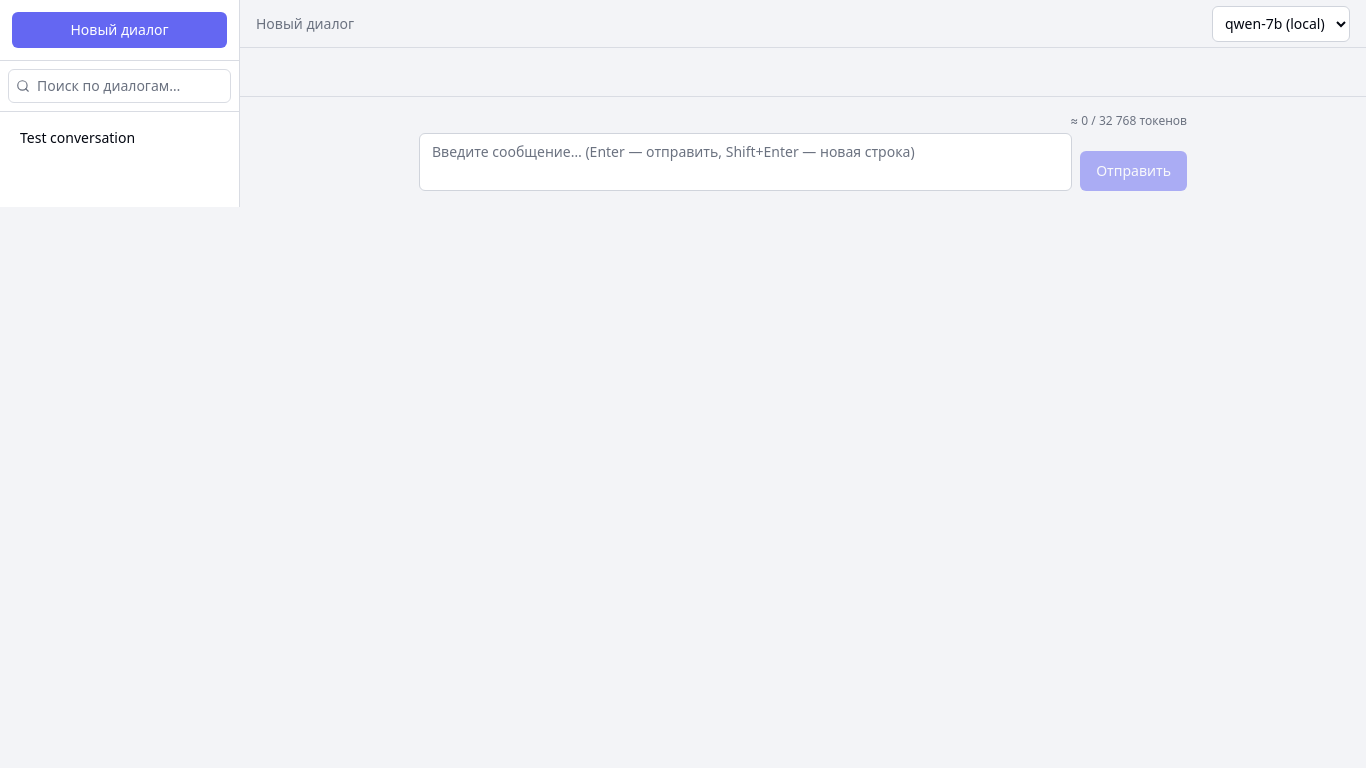
it: ChatPage › new conversation button opens modal with required model selection
# Кнопка в панели диалогов — первая в DOM
Click the button "Новый диалог". click: (120, 30)
box: [12,12,227,48]
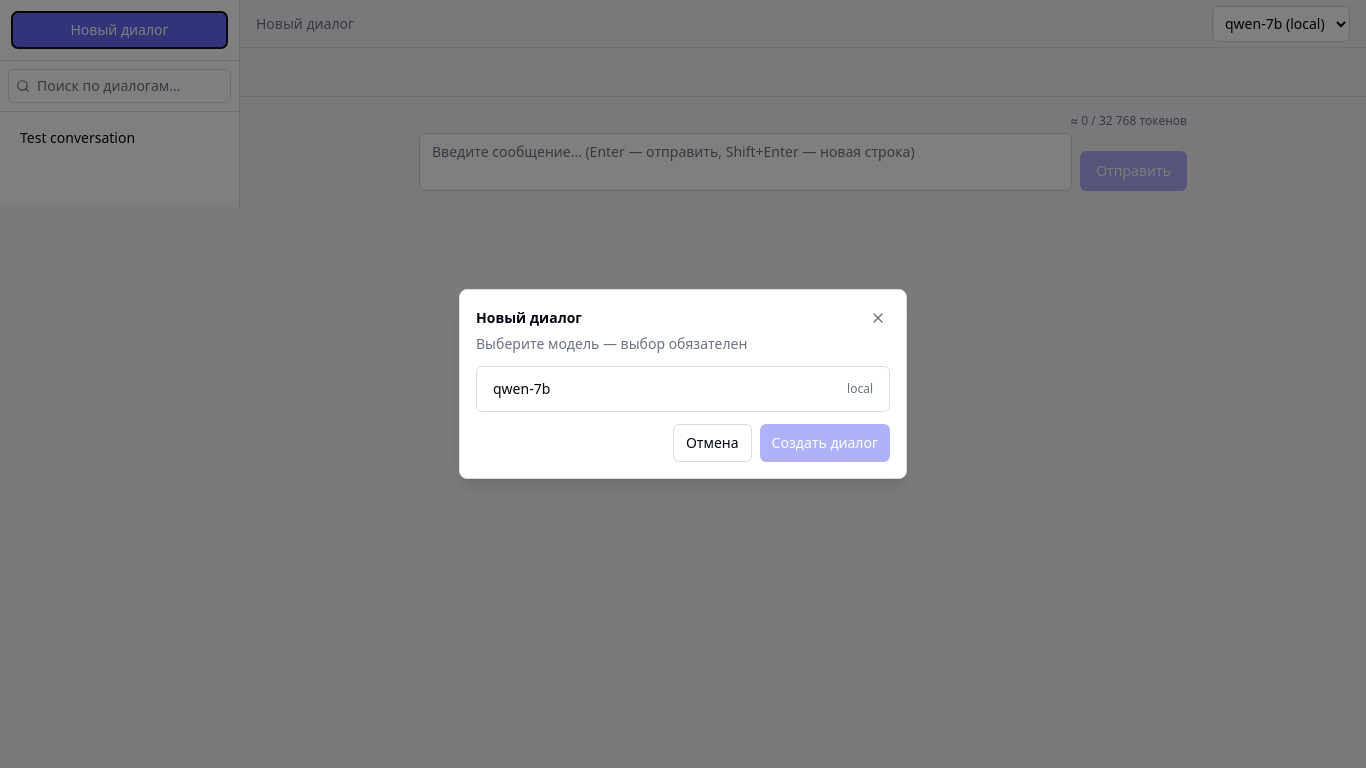
Expected: the text "Выберите модель — выбор обязателен" is shown, [476,334,747,353]
Expected: the button "Создать диалог" is disabled, [760,424,890,462]
Click the text "qwen-7b". click: (522, 389)
box: [493,379,550,399]
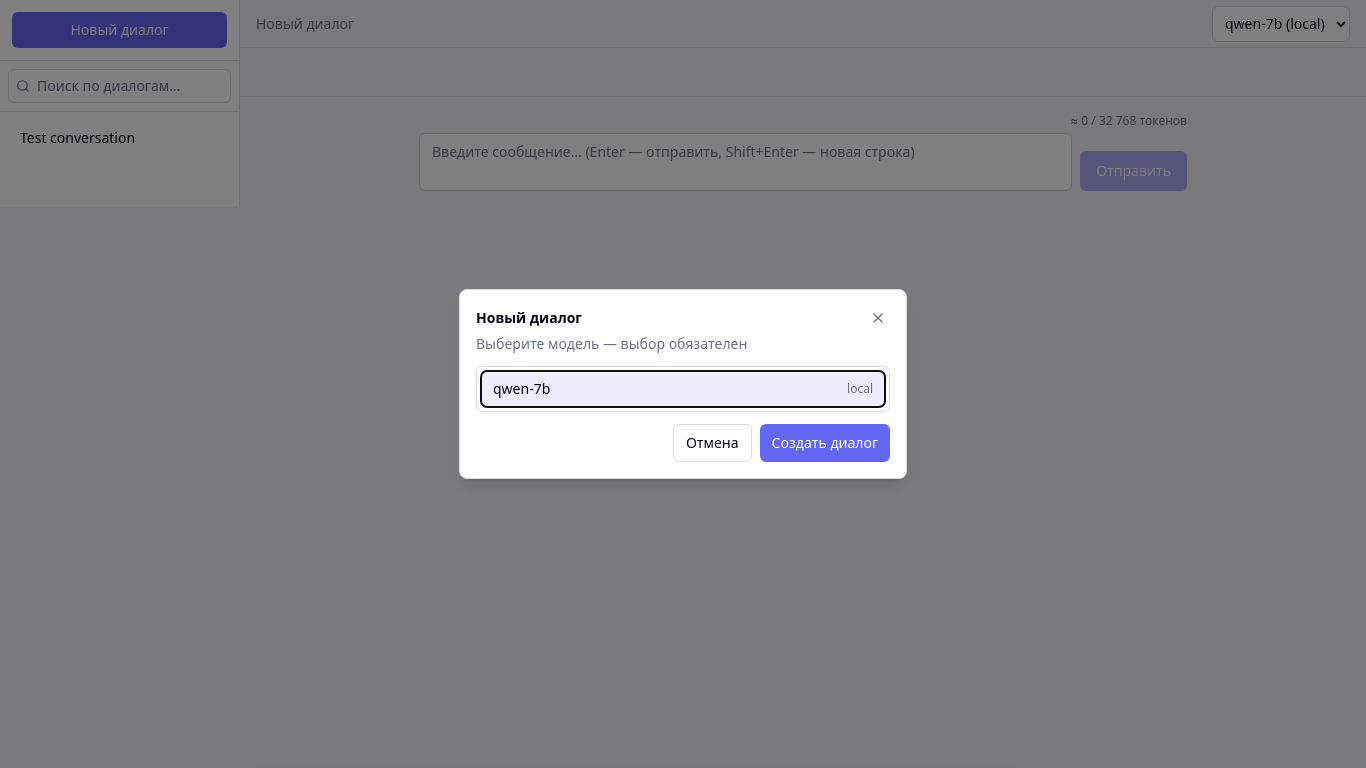
Expected: the button "Создать диалог" is enabled
Click the button "Создать диалог". click: (825, 443)
box: [760,424,890,462]
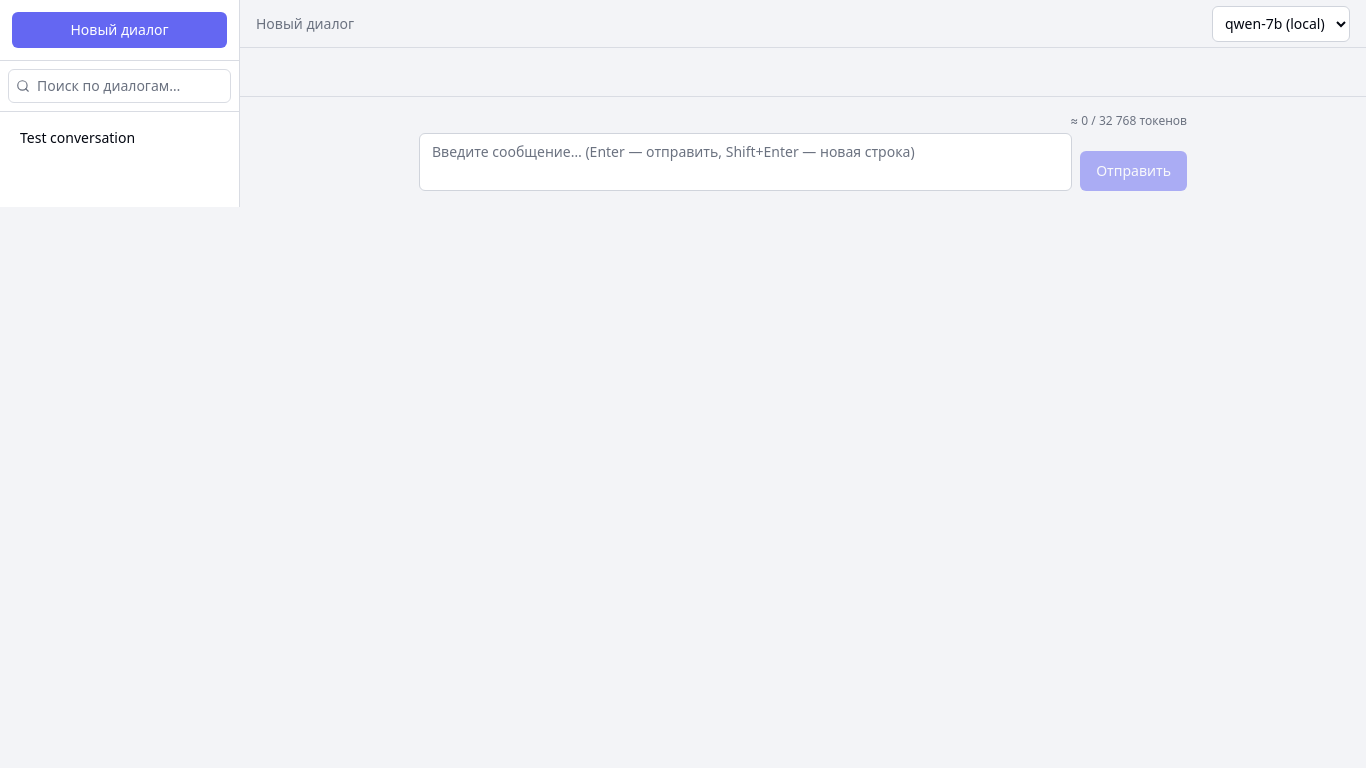
Expected: the text "Выберите модель — выбор обязателен" is gone
